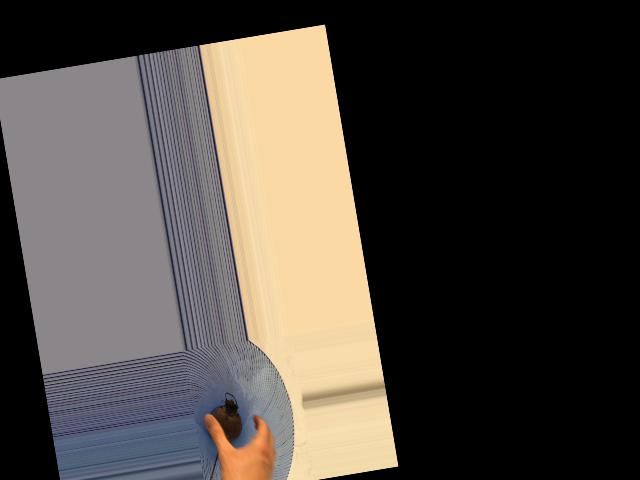beet: (196, 390, 249, 479)
